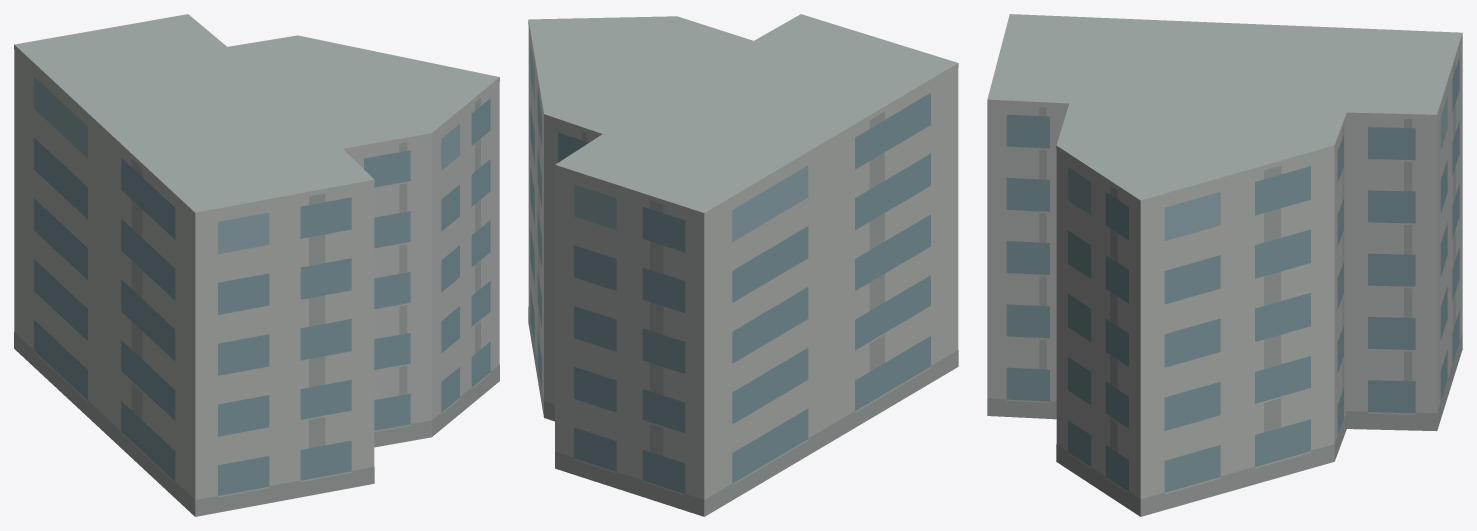
Rendered from survey-upis-32630834.glb.
3 views of the same model, side by side, from view 1: azimuth 30°, elevation 25°; view 2: azimuth 150°, elevation 25°; view 3: azimuth 270°, elevation 25° (orthographic). The views are drawn at different scales.
Visible parts, largest first — view 1: survey-upis-32630834.tmp; view 2: survey-upis-32630834.tmp; view 3: survey-upis-32630834.tmp.
Part boxes in pixels (left/top/right/bottom): survey-upis-32630834.tmp: left=14, top=14, right=499, bottom=516; survey-upis-32630834.tmp: left=528, top=14, right=958, bottom=516; survey-upis-32630834.tmp: left=987, top=14, right=1462, bottom=516.
Bounding box in the file's own units: 19.29 × 15.25 × 20.77.
